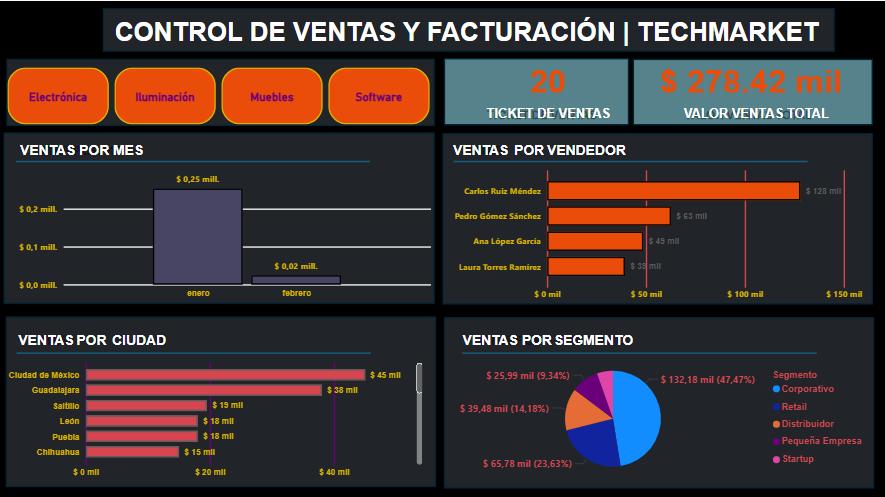

What the dashboard file says about the page in this screenshot:
{"tool":"powerbi","page":{"name":"Página 1","canvas":[1280,720],"ordinal":0},"visuals":[{"type":"card","fields":{"Values":["Sum(Venta.Total)"]},"box":[923,90.7,325.4,46.1],"z":0},{"type":"card","fields":{"Values":["CountNonNull(Venta.Total)"]},"box":[686.9,90.7,213.1,46.1],"z":1000},{"type":"clusteredBarChart","title":"Ventas por ciudad","fields":{"Category":["Clientes.Ciudad"],"Y":["Sum(Venta.Total)"]},"box":[10.6,509,607.4,186.3],"z":2000},{"type":"clusteredBarChart","title":"Ventas por Vendedor","fields":{"Category":["Vendedor.Nombre"],"Y":["Sum(Venta.Total)"]},"box":[652.9,231.8,605.9,209],"z":3000},{"type":"pieChart","title":"Ventas por Segmento","fields":{"Category":["Clientes.Segmento"],"Y":["Sum(Venta.Total)"]},"box":[652.9,509,607.4,186.3],"z":4000},{"type":"advancedSlicerVisual","fields":{"Values":["Productos.Categoria"]},"box":[10.6,90.9,619.6,92.4],"z":5000},{"type":"clusteredColumnChart","title":"Ventas por Mes","fields":{"Category":["Venta.FechaVenta.Variación.Jerarquía de fechas.Mes"],"Y":["Sum(Venta.Total)"]},"box":[25.8,231.8,604.4,204.5],"z":6000}]}

Visuals, with their boxes in screenshot pixels (x1, y1, x2, y2), scaled from the page's 1280x720 canvas onto the 885x497 screenshot:
card - Sum(Venta.Total): 638:63:863:94
card - CountNonNull(Venta.Total): 475:63:622:94
"Ventas por ciudad" clusteredBarChart: 7:351:427:480
"Ventas por Vendedor" clusteredBarChart: 451:160:870:304
"Ventas por Segmento" pieChart: 451:351:871:480
advancedSlicerVisual - Productos.Categoria: 7:63:436:127
"Ventas por Mes" clusteredColumnChart: 18:160:436:301
